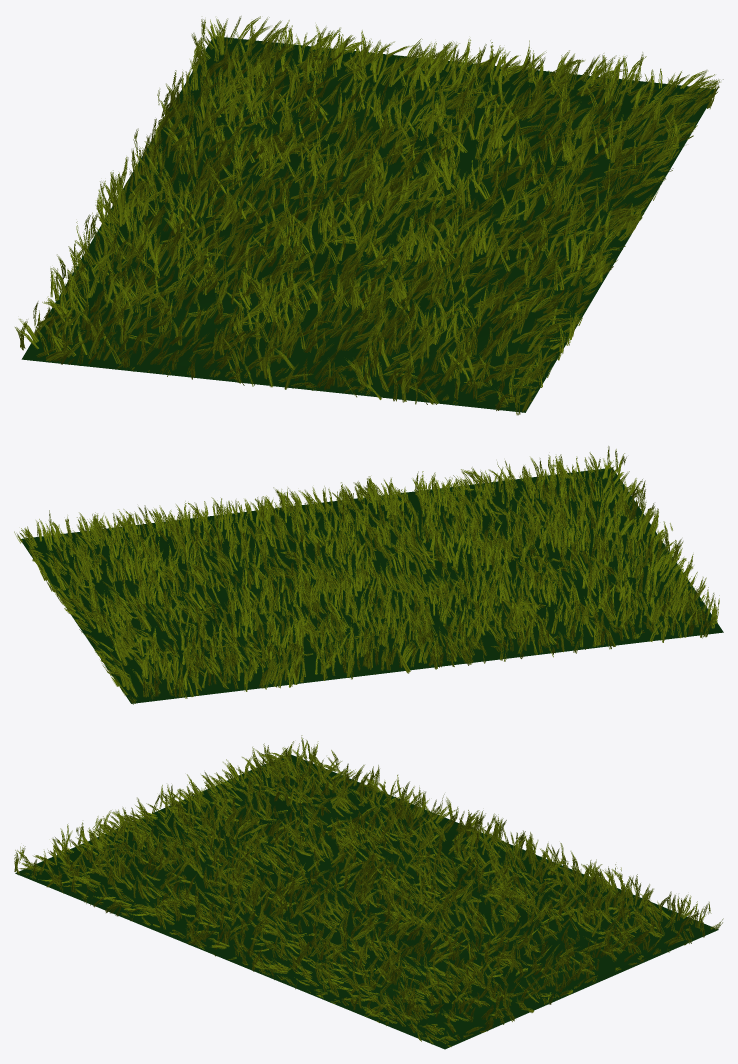
File: dry_thin_grass-transformed.glb
3 renders of one model, top to bottom at view 1: azimuth 30°, elevation 25°; view 2: azimuth 150°, elevation 25°; view 3: azimuth 270°, elevation 25°, orthographic. The views are drawn at different scales.
Visible parts, largest first — view 1: Carpet 2_0; view 2: Carpet 2_0; view 3: Carpet 2_0.
Part boxes in pixels (bbox=[...]): Carpet 2_0: bbox=[15, 16, 723, 415]; Carpet 2_0: bbox=[14, 446, 723, 704]; Carpet 2_0: bbox=[14, 735, 723, 1049].
Size of the model in its own units: 5.45 by 0.2579 by 5.48.
